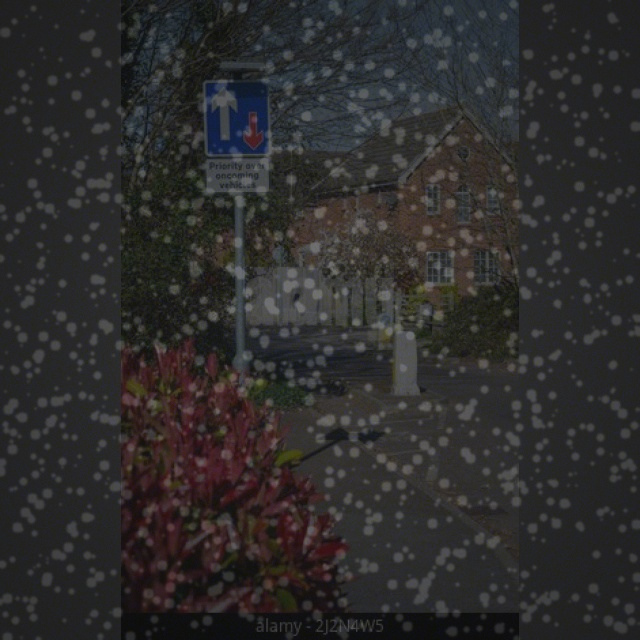Priority_for_Oncoming_Traffic: (204, 80, 271, 156)
